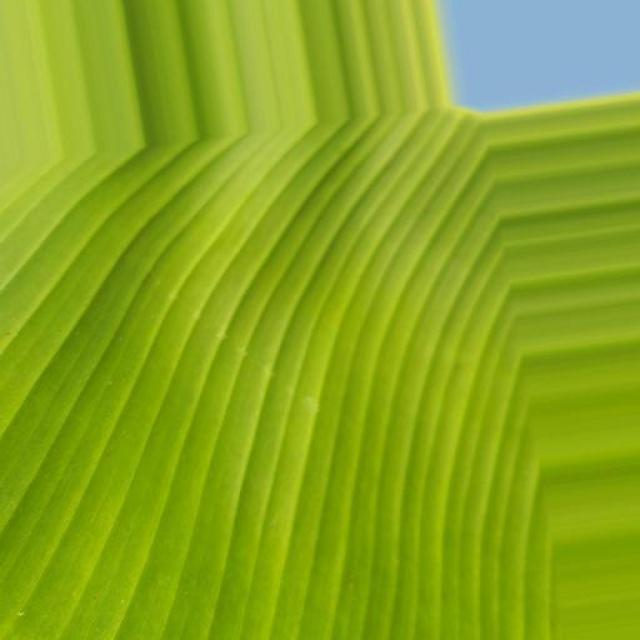Black_leaf_spot: (0, 104, 554, 640)
